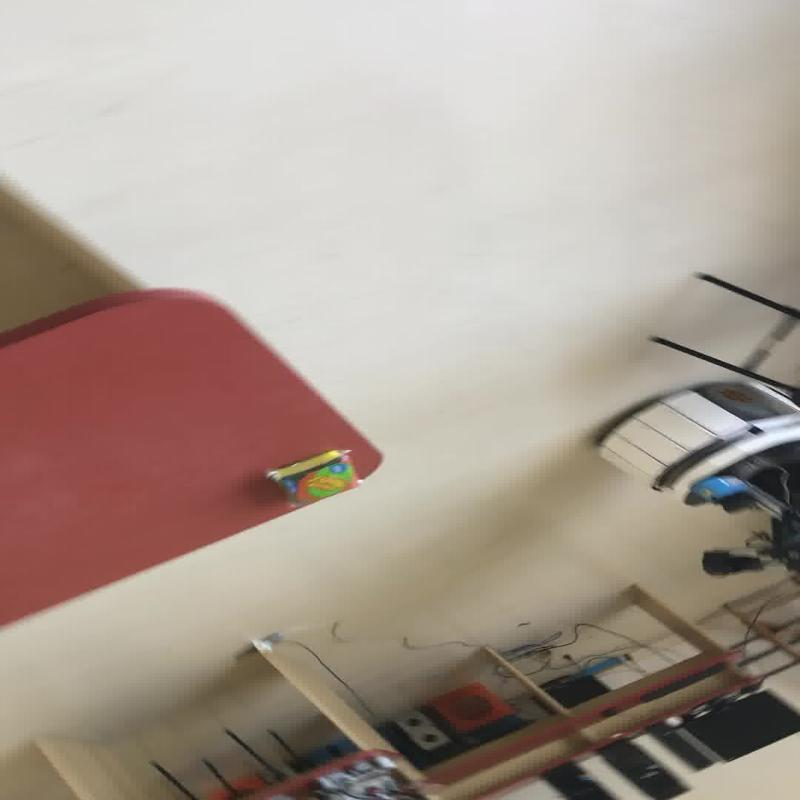sponge: (263, 448, 359, 508)
